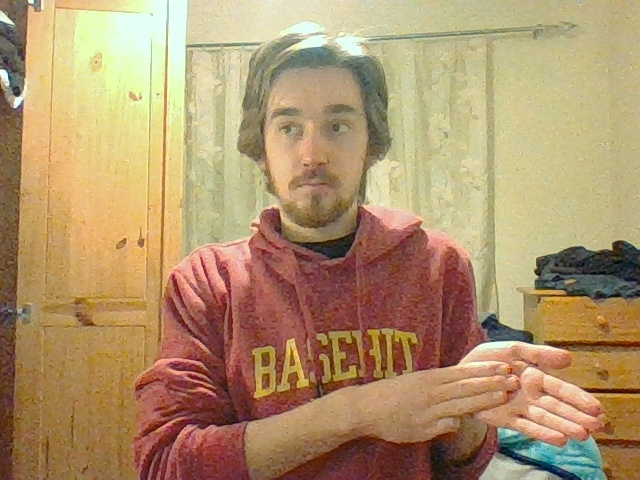mother: (455, 339, 604, 444)
